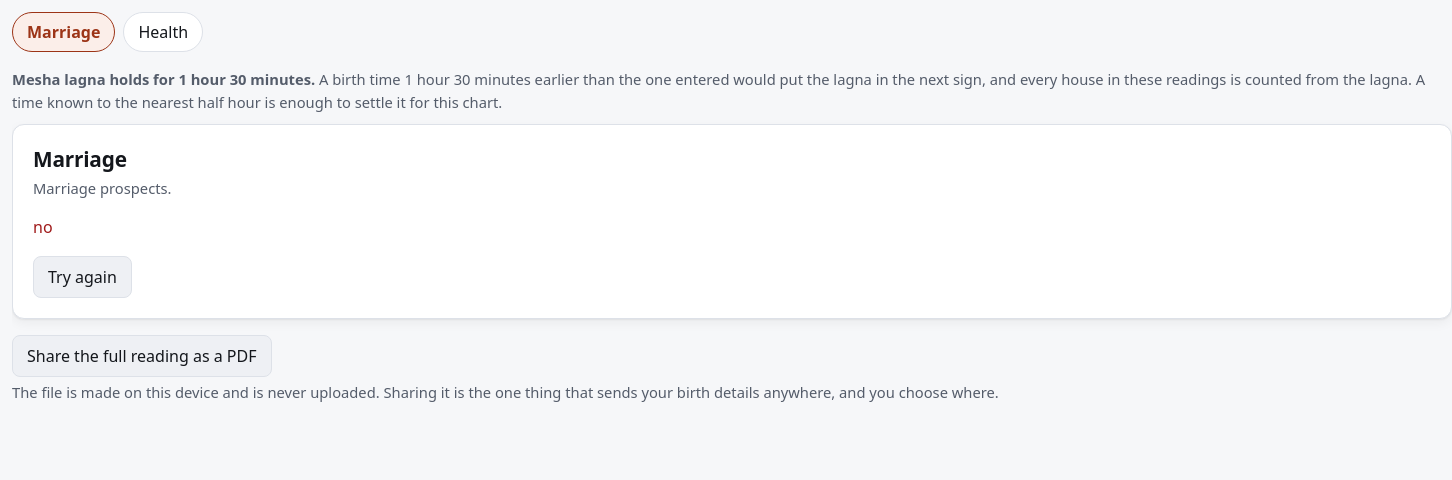
Test case: ReadingsView › offers every catalogue topic and shows the health disclaimer before any reading
What coordinates should you click on to do the following:
click the button "Health"
I would click on:
 (163, 32)
Its box is [123,12,203,52].
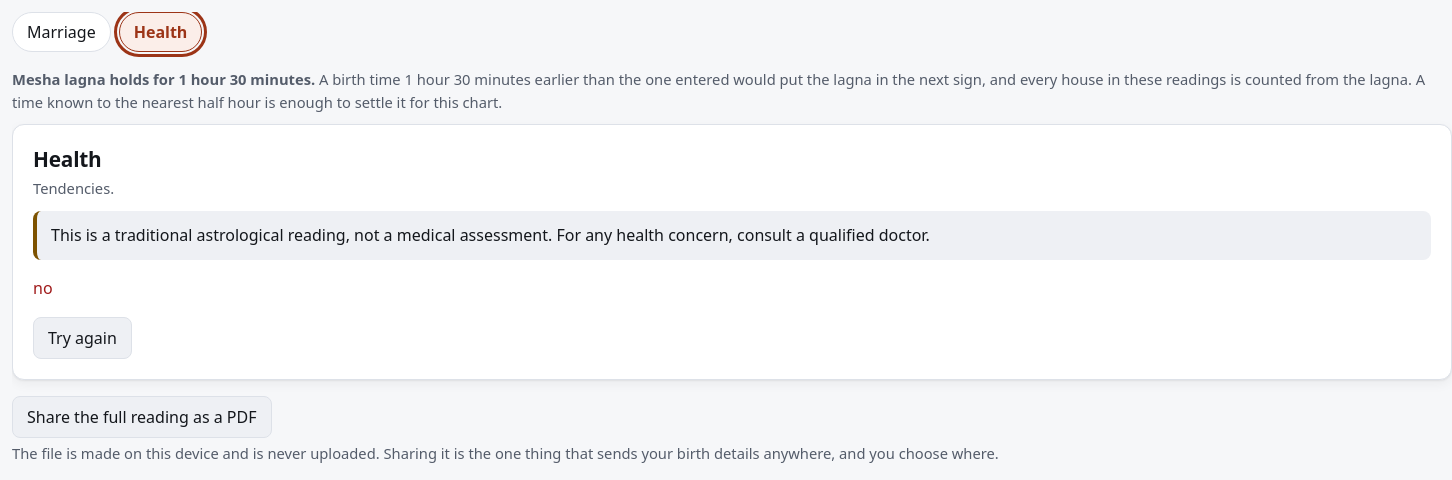
Expected: the heading "Health" is shown, [33,145,102,173]
